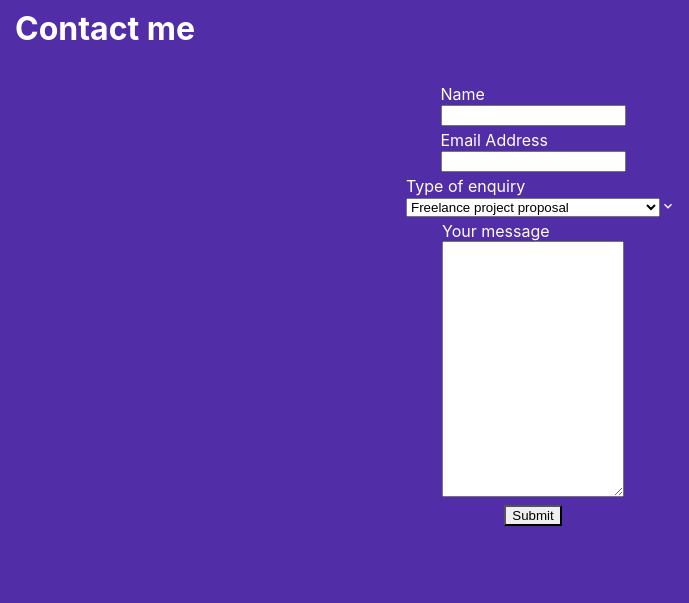
Scenario: ContactMeSection › Comment length validation › should show error message when comment is less than 25 characters
# Enter short comment (less than 25 characters)
Type "Short message" into the text box labelled "Your message" at point(533, 369), box [442, 241, 624, 497]
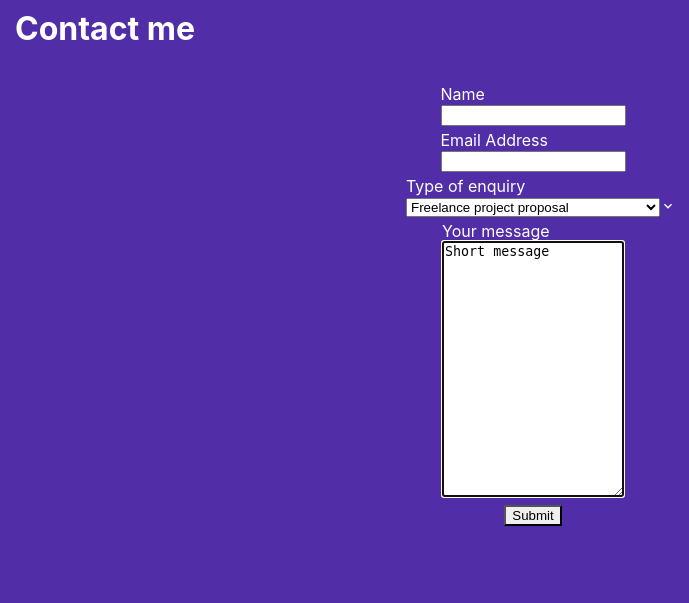
# Try to submit
Click the button "Submit" at point(533, 515), box [504, 505, 562, 526]
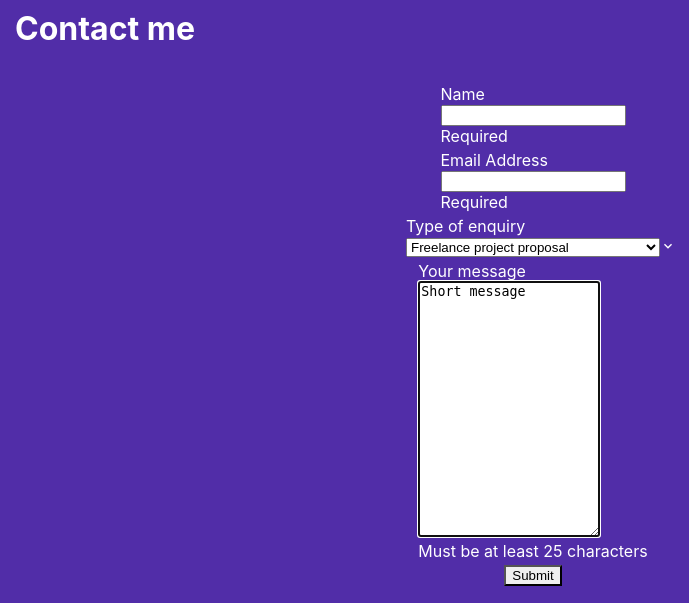
Result: the text "Must be at least 25 characters" is shown at [418, 541, 648, 561]
